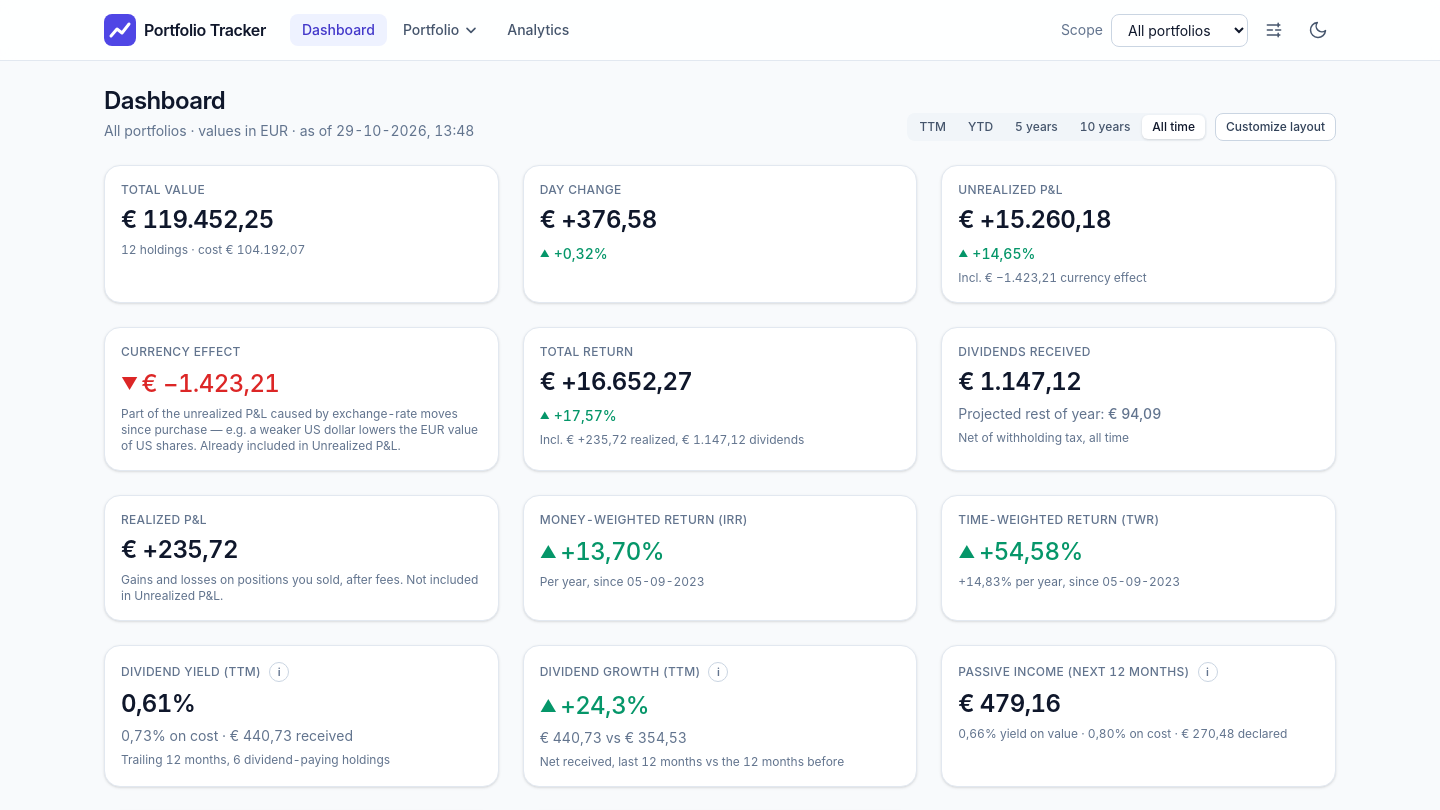
it: ManagePortfoliosDialog › lists portfolios with transaction counts and focuses the name field
Click the button named "Manage portfolios": (1274, 30) [1256,12,1292,48]
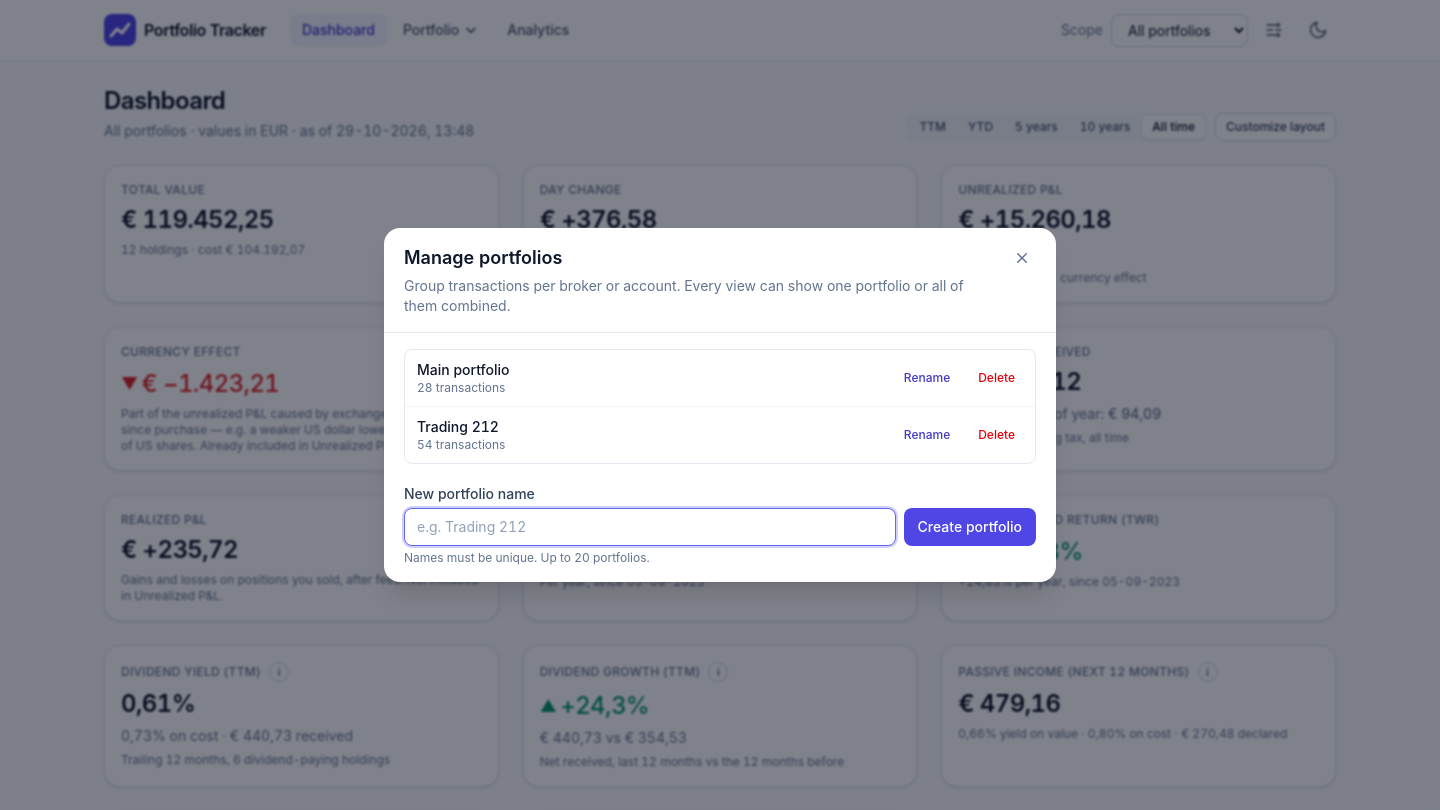
Result: the list named "Portfolios" is shown at [404,349,1036,464]
